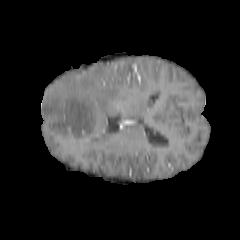glioma: (42, 65, 120, 134)
